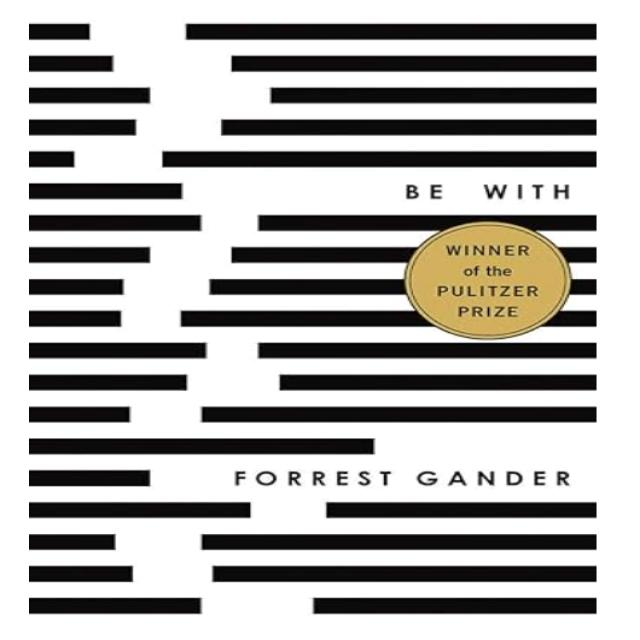titles-or-authors: (222, 461, 584, 492), (378, 175, 584, 207)
